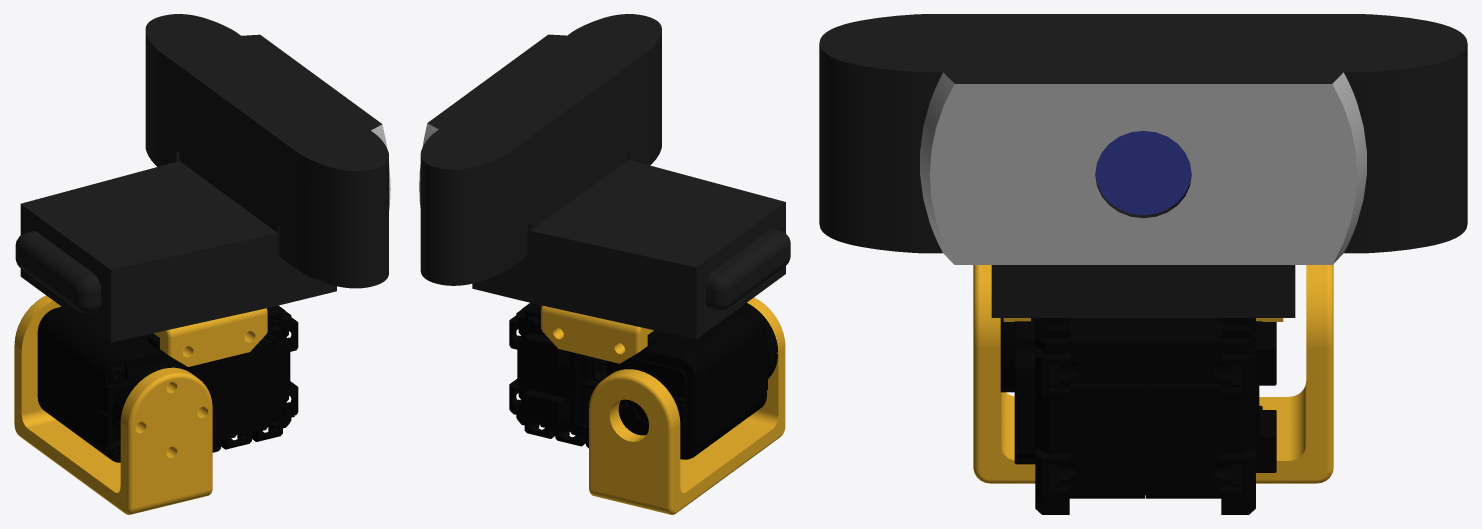
File: Head.dae
3 renders of one model, left to right at view 1: azimuth 30°, elevation 25°; view 2: azimuth 150°, elevation 25°; view 3: azimuth 270°, elevation 25°, orthographic. The views are drawn at different scales.
Visible parts, largest first — view 1: Body1_Plastic_-_Glossy_(Black), Body1_Plastic_-_Matte_(Yellow) (×2), Body1_Glossy_-_Black (×2); view 2: Body1_Plastic_-_Glossy_(Black), Body1_Glossy_-_Black (×2), Body1_Plastic_-_Matte_(Yellow) (×2); view 3: Body1_Plastic_-_Glossy_(Black), Body1_Plastic_-_Glossy_(Grey), Body1_Glossy_-_Black (×2), Body1_Plastic_-_Matte_(Yellow), Body1_Plastic_-_Glossy_(Blue).
Part boxes in pixels (left/top/right/bottom): Body1_Plastic_-_Glossy_(Black): left=15, top=14, right=388, bottom=342; Body1_Plastic_-_Matte_(Yellow) (×2): left=14, top=295, right=267, bottom=514; Body1_Glossy_-_Black (×2): left=37, top=305, right=298, bottom=462; Body1_Plastic_-_Glossy_(Black): left=420, top=14, right=790, bottom=339; Body1_Glossy_-_Black (×2): left=509, top=303, right=778, bottom=459; Body1_Plastic_-_Matte_(Yellow) (×2): left=541, top=297, right=785, bottom=514; Body1_Plastic_-_Glossy_(Black): left=819, top=14, right=1467, bottom=317; Body1_Plastic_-_Glossy_(Grey): left=920, top=72, right=1366, bottom=264; Body1_Glossy_-_Black (×2): left=1000, top=318, right=1276, bottom=514; Body1_Plastic_-_Matte_(Yellow): left=973, top=264, right=1333, bottom=483; Body1_Plastic_-_Glossy_(Blue): left=1095, top=130, right=1191, bottom=215.
Bounding box in the file's own units: 0.0712 × 0.094 × 0.0839.
